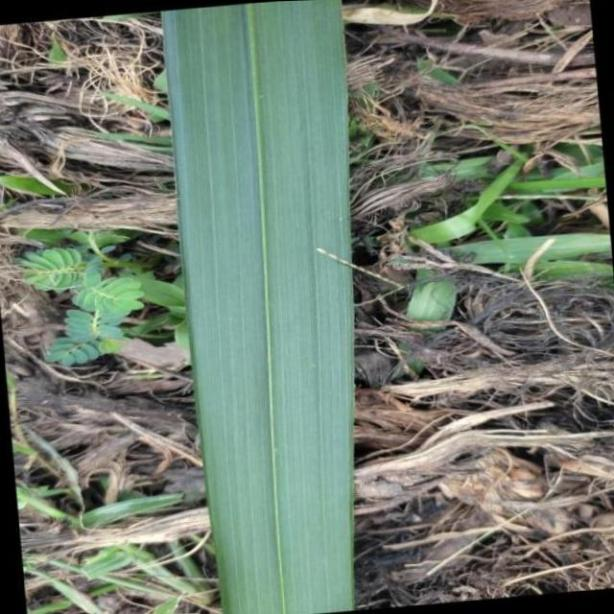Healthy: (161, 0, 355, 609)
